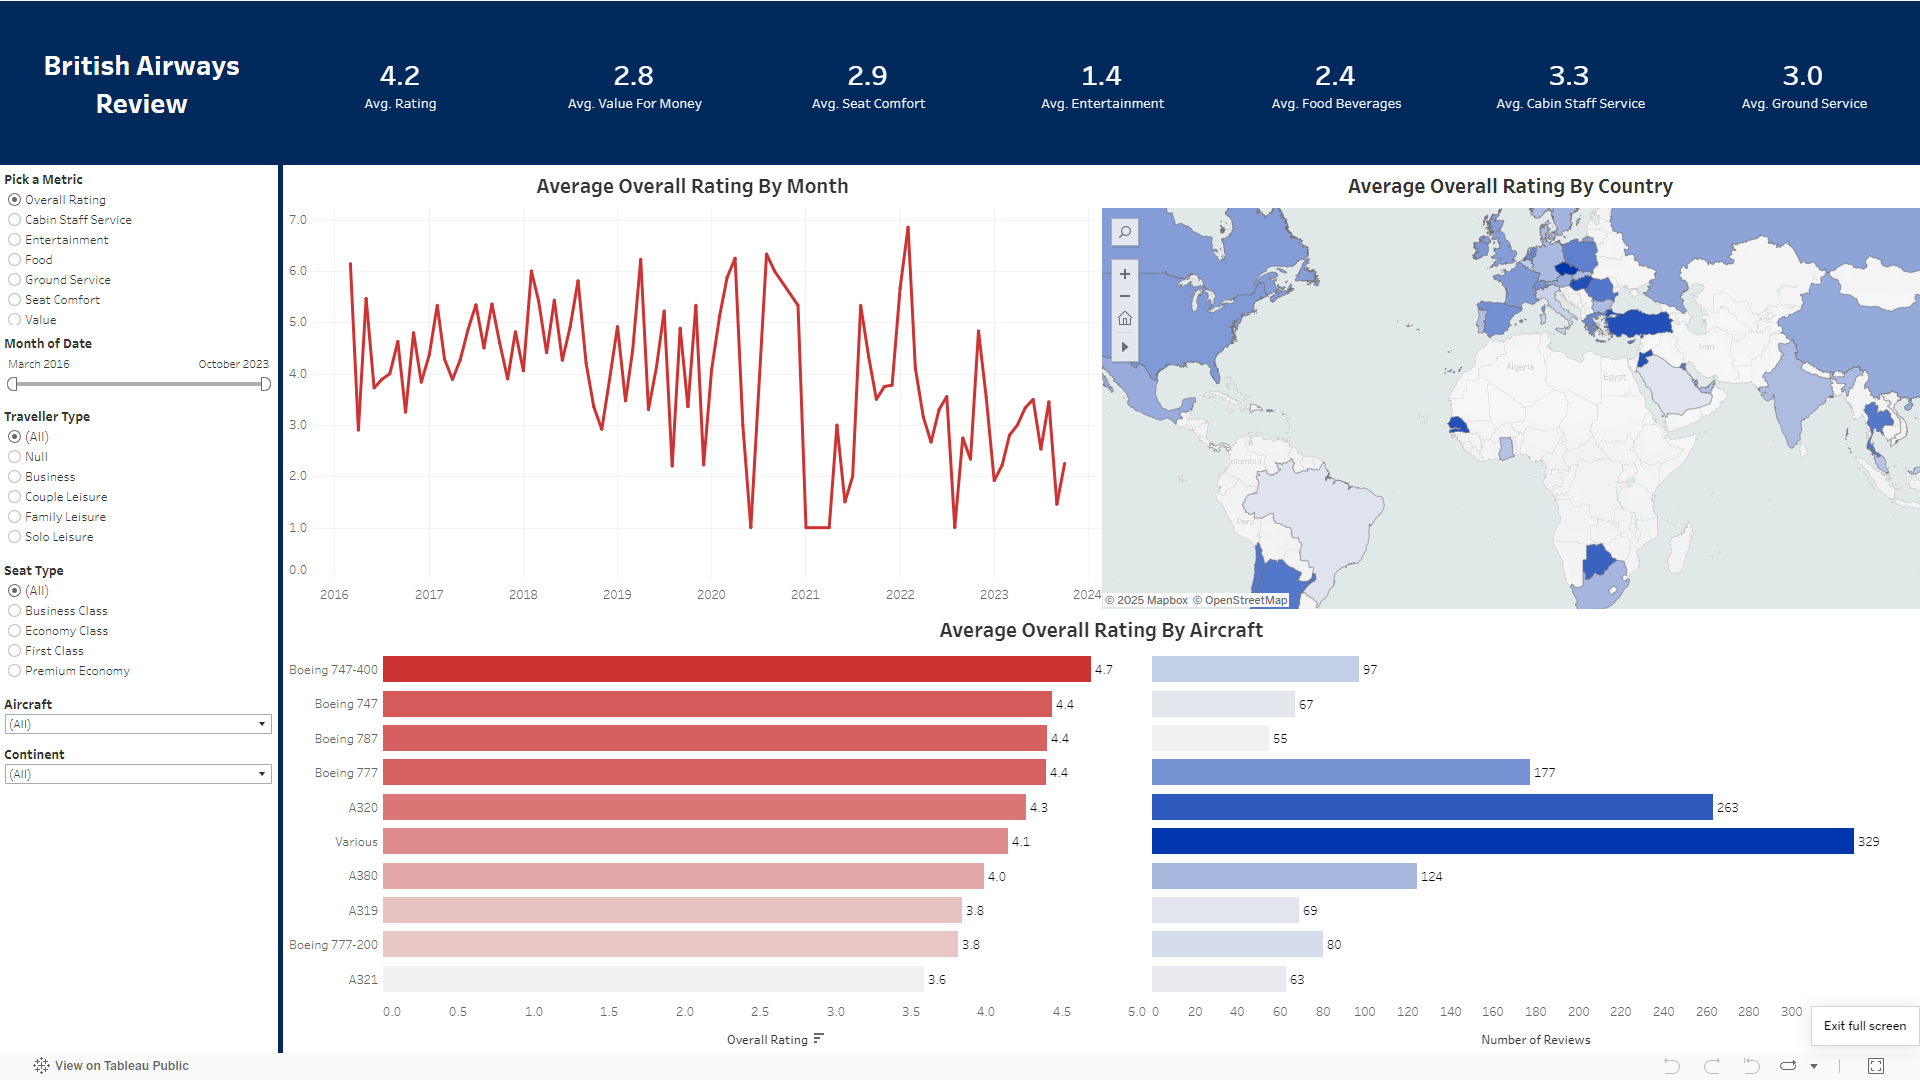

What the dashboard file says about the page in this screenshot:
{"tool":"tableau","page":{"name":"British Airways Review Dashboard","canvas":[1000,1000],"units":"permille","ordinal":0},"visuals":[{"type":"text","box":[0,0,147.1,156.2]},{"type":"worksheet","title":"Summary","mark":"Automatic","box":[147.1,0,852.9,156.2]},{"type":"parameter","param":"[Parameters].[Parameter 1]","box":[0,156.2,144.2,191.6]},{"type":"blank","box":[145,156.2,2.2,843.8]},{"type":"worksheet","title":"Month","mark":"Automatic","rows":["Calculation_493144217348227072"],"cols":["date"],"box":[147.1,156.2,426.8,421.9]},{"type":"worksheet","title":"Map","mark":"Automatic","box":[573.2,156.2,426.8,421.9]},{"type":"filter","title":"Map","param":"[federated.1eyewjt1kevrrb13un0o01dy7x3t].[tmn:date:qk]","box":[0,347.8,144.2,85.3]},{"type":"filter","title":"Map","param":"[federated.1eyewjt1kevrrb13un0o01dy7x3t].[none:traveller_type:nk]","box":[0,433.1,144.2,171.7]},{"type":"worksheet","title":"Aircraft","mark":"Automatic","cols":["Calculation_493144217348227072","ba_reviews.csv_E9B62B59E733453C835427591B15D30F"],"box":[147.1,578.1,852.9,421.9]},{"type":"filter","title":"Map","param":"[federated.1eyewjt1kevrrb13un0o01dy7x3t].[none:seat_type:nk]","box":[0,604.9,144.2,149.5]},{"type":"filter","title":"Map","param":"[federated.1eyewjt1kevrrb13un0o01dy7x3t].[Aircraft (group)]","box":[0,754.4,144.2,58.4]},{"type":"filter","title":"Map","param":"[federated.1eyewjt1kevrrb13un0o01dy7x3t].[none:Continent:nk]","box":[0,812.8,144.2,63.1]}]}

Visuals, with their boxes on the dashboard's canvas, which has no fixed pixel size, in thousandths of its width and height (x1, y1, x2, y2). These are canvas units, not pixel positions in the 1920x1080 screenshot, which may show the page scaled, cropped or inside an application window:
text: (0, 0, 147, 156)
"Summary" worksheet: (147, 0, 1000, 156)
parameter: (0, 156, 144, 348)
blank: (145, 156, 147, 1000)
"Month" worksheet: (147, 156, 574, 578)
"Map" worksheet: (573, 156, 1000, 578)
"Map" filter: (0, 348, 144, 433)
"Map" filter: (0, 433, 144, 605)
"Aircraft" worksheet: (147, 578, 1000, 1000)
"Map" filter: (0, 605, 144, 754)
"Map" filter: (0, 754, 144, 813)
"Map" filter: (0, 813, 144, 876)
